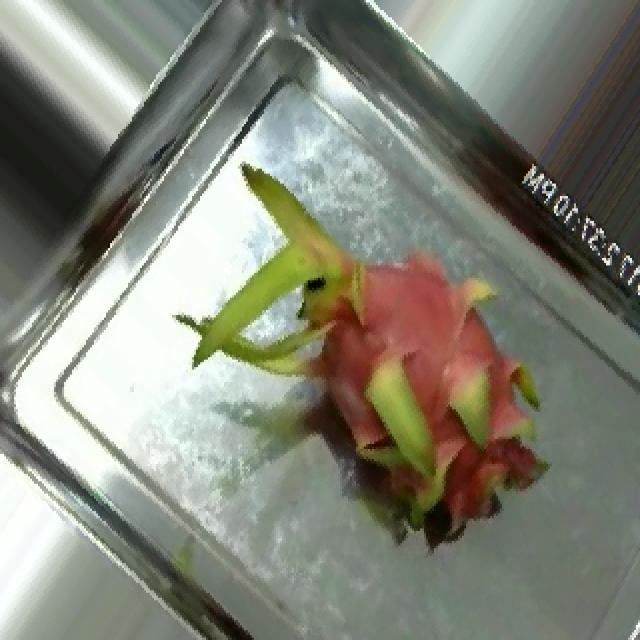fruit: (212, 136, 634, 593)
